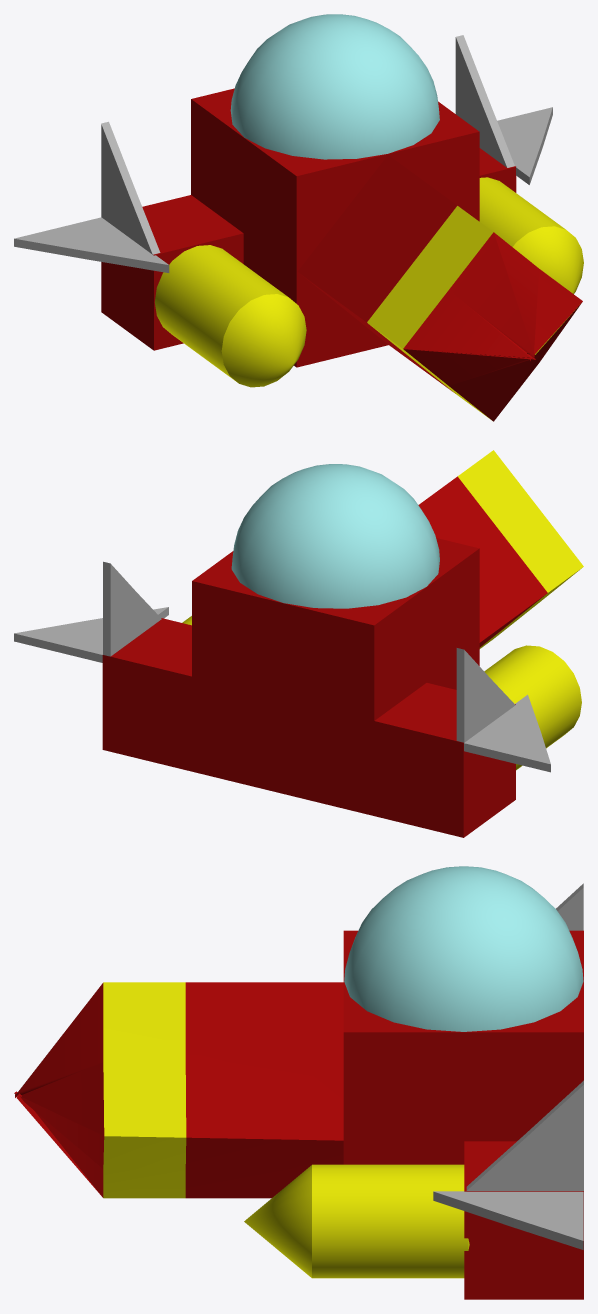
The model's file is Gumi.fbx.
3 renders of one model, top to bottom at view 1: azimuth 30°, elevation 25°; view 2: azimuth 150°, elevation 25°; view 3: azimuth 270°, elevation 25°, orthographic. The views are drawn at different scales.
Visible parts, largest first — view 1: pCube4; view 2: pCube4; view 3: pCube4.
Part boxes in pixels (x1=…): pCube4: x1=14, y1=14, x2=583, y2=421; pCube4: x1=14, y1=450, x2=583, y2=837; pCube4: x1=14, y1=866, x2=583, y2=1299.
Bounding box in the file's own units: 2.95 × 1.48 × 2.37.
